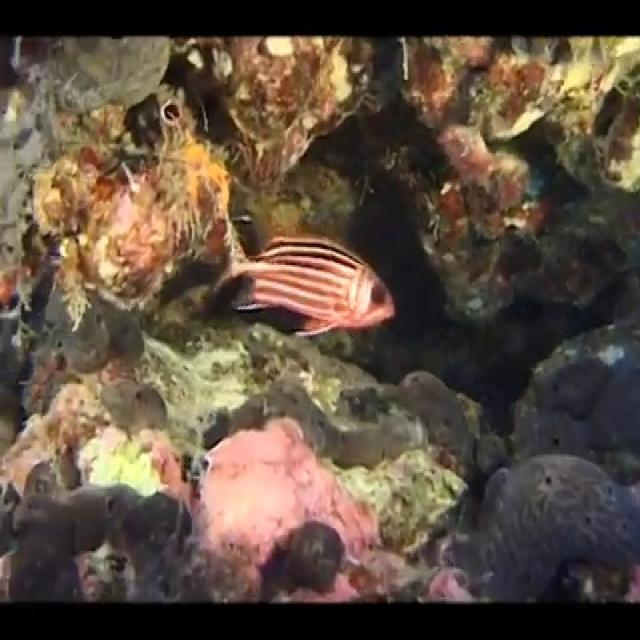Asker Baligi: (205, 230, 398, 340)
